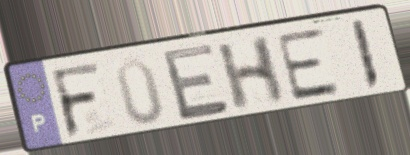0: (114, 56, 166, 128)
E: (158, 40, 233, 124), (273, 25, 344, 104)
F: (48, 59, 105, 141)
H: (214, 32, 288, 114)
I: (348, 17, 384, 94)
